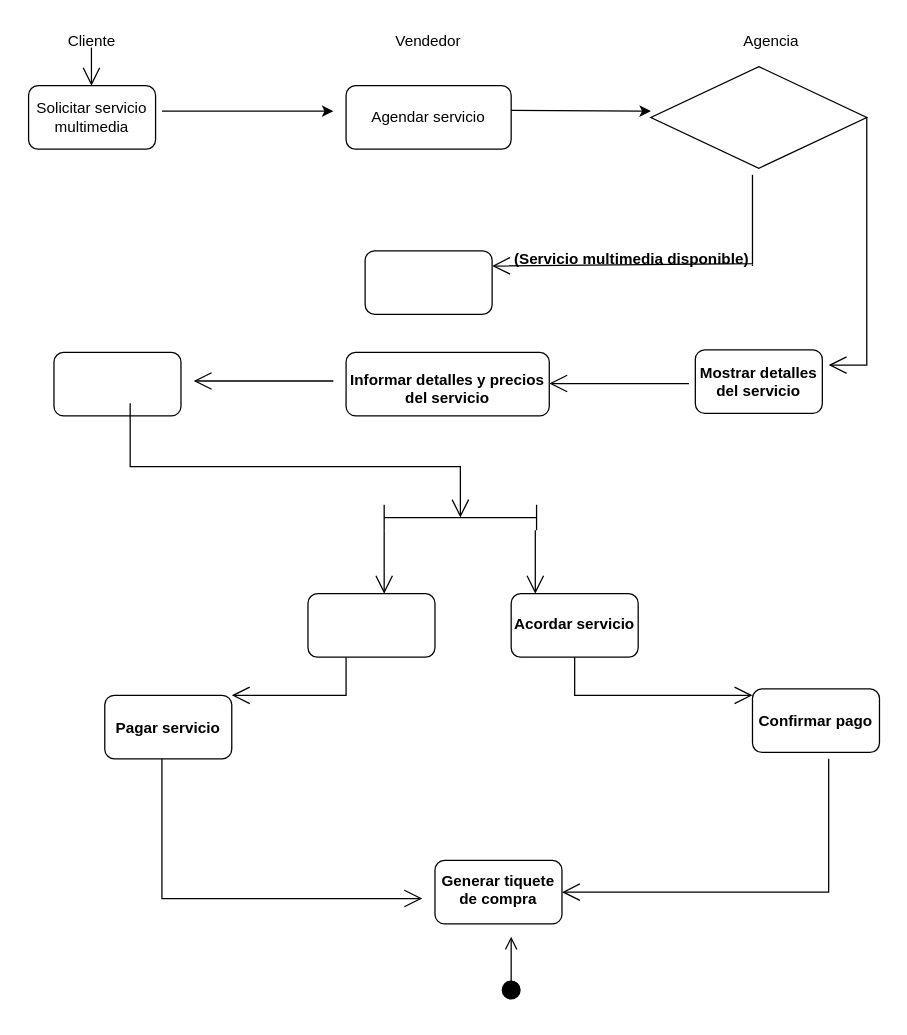
Some shapes in this 907 by 1035 pixel diagram are drawn without their labels. The shapes that lost their labels are listed below. From the top down, each one's centre as x and y in pixels, then its label:
[758,116]: Validar disponibilidad
[428,282]: Informar fecha de entrega
[117,383]: Seleccionar camara
[371,624]: Solicitar Pago
